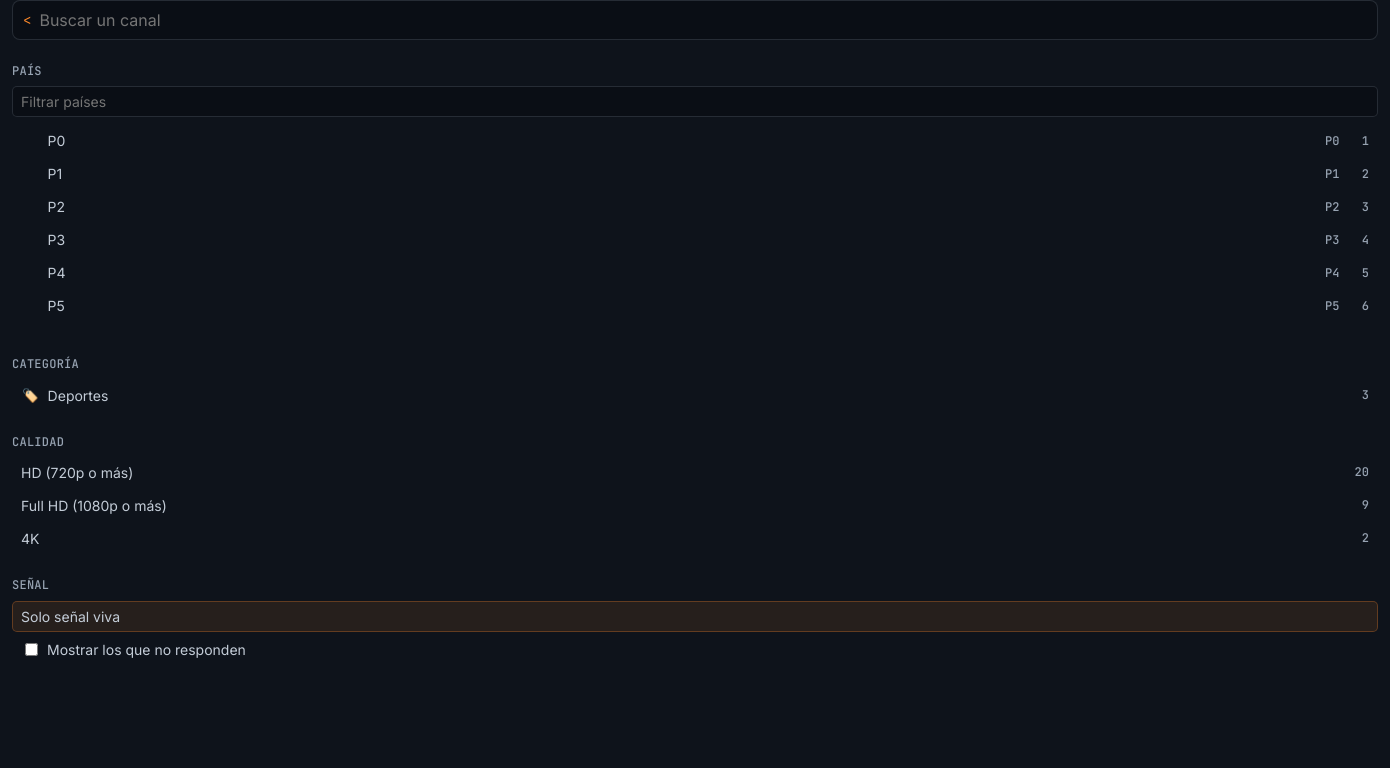
BarraLateralFacetas — país buscable (>12 facetas) › teclear "mex" filtra a México, insensible a mayúsculas/acentos
In the search field labelled "Filtrar países": point(695, 102) [12,86,1378,117], type "mex"
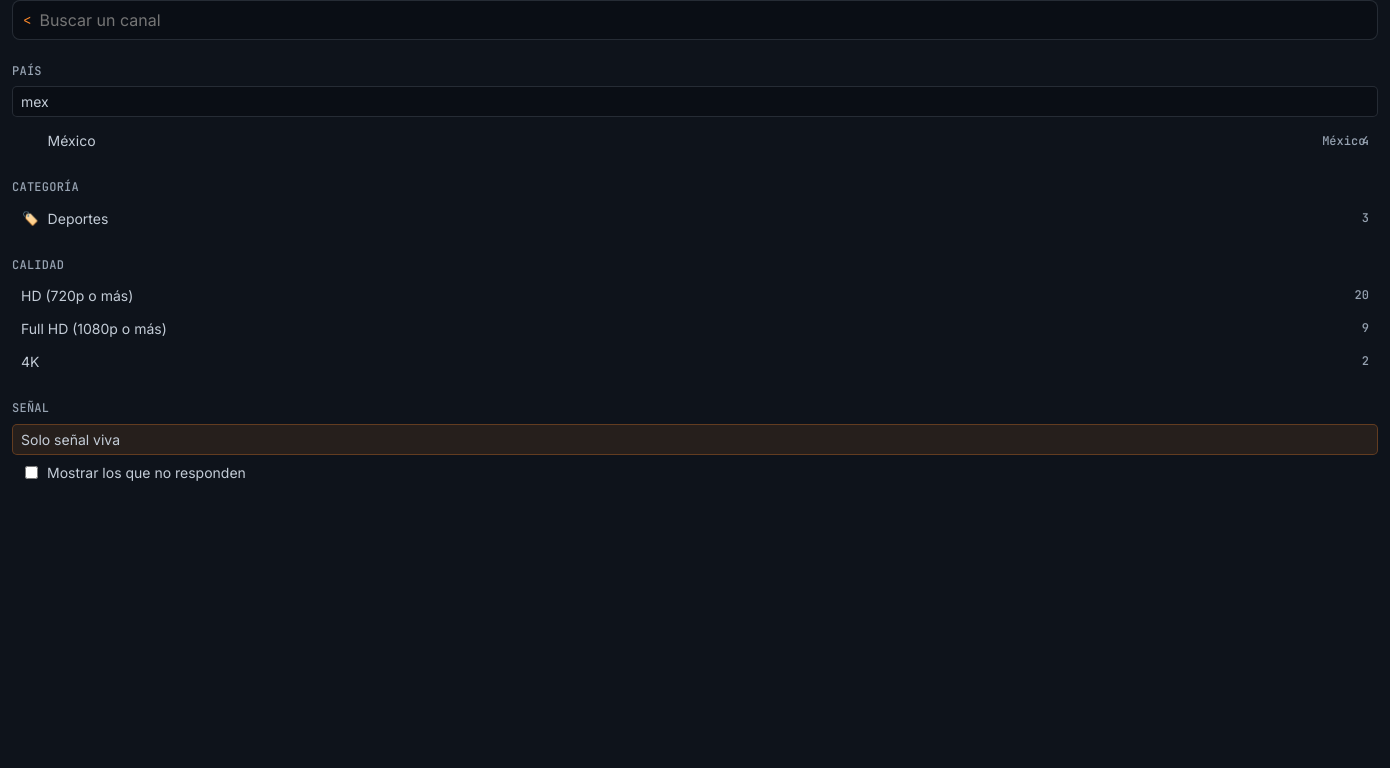
Now the button "México México 4" is shown, box [12,125,1378,156]
